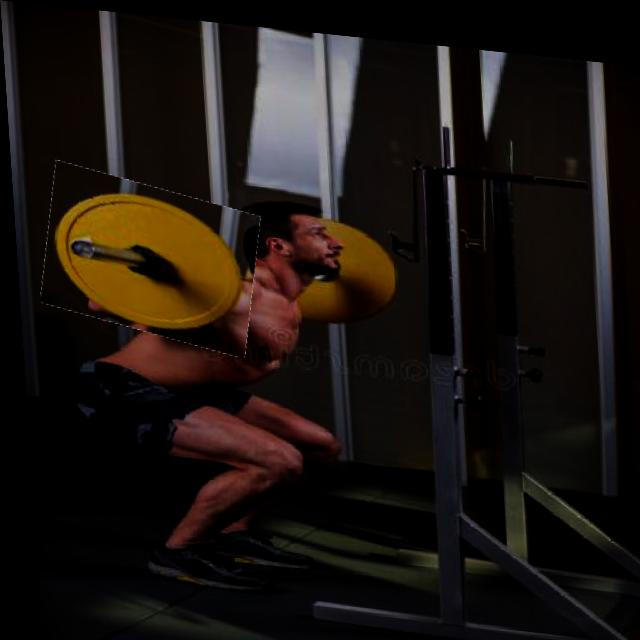barbell: (36, 167, 261, 348)
